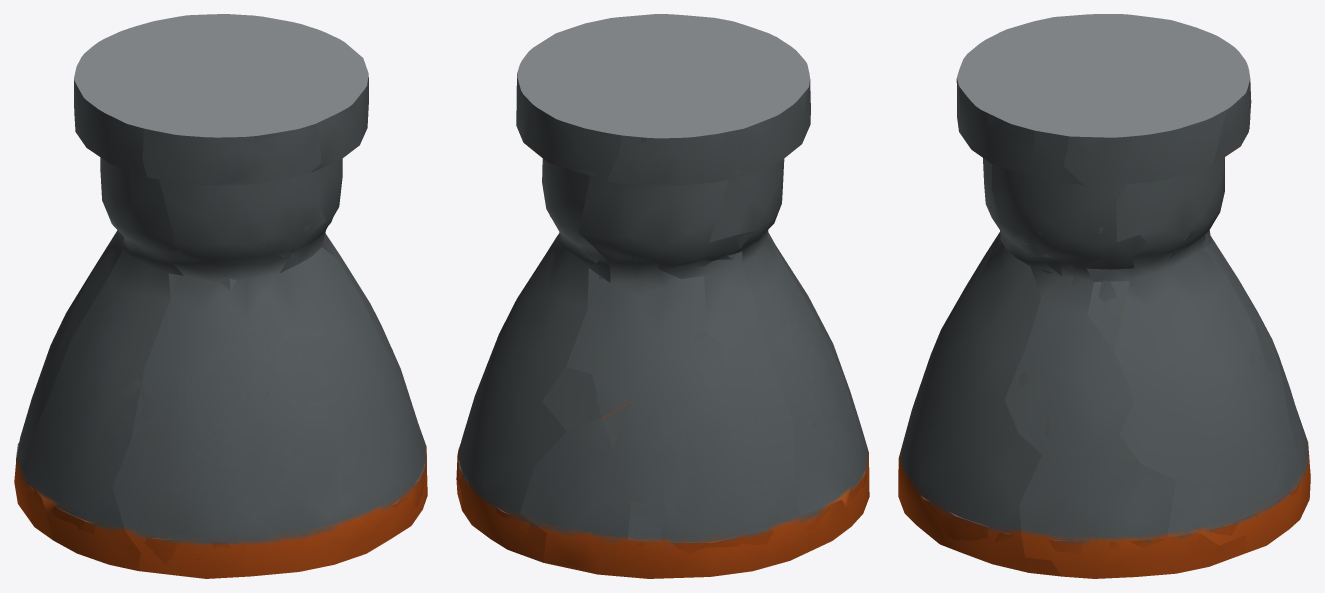
The model's file is chemical_thruster_mk1.glb.
3 views of the same model, side by side, from view 1: azimuth 30°, elevation 25°; view 2: azimuth 150°, elevation 25°; view 3: azimuth 270°, elevation 25° (orthographic).
Parts seen in each view (by area): view 1: part; view 2: part; view 3: part.
Boxes of the visible parts, box(x1,y1,x2,y2) form: part: box(14, 14, 427, 578); part: box(456, 14, 869, 578); part: box(898, 14, 1310, 578).
Size of the model in its own units: 1.8 by 2 by 1.8.
Materials: 2 (1 with a texture image).
